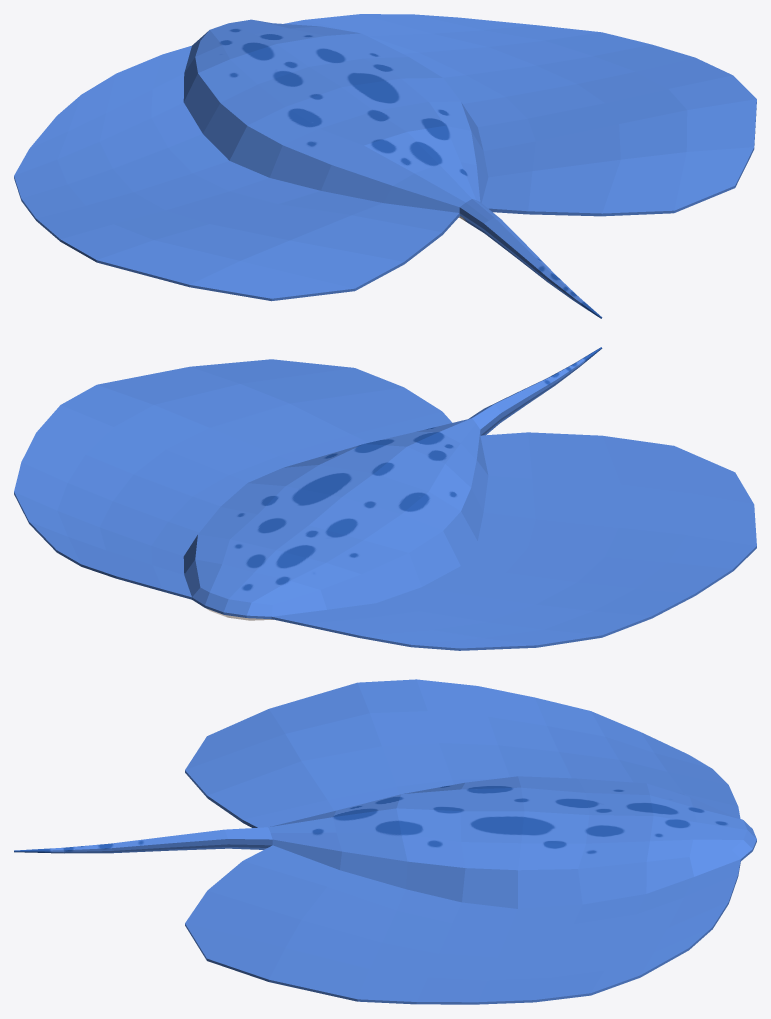
The model's file is mantaray.fbx.
3 views of the same model, one above another, from view 1: azimuth 30°, elevation 25°; view 2: azimuth 150°, elevation 25°; view 3: azimuth 270°, elevation 25° (orthographic).
Visible parts, largest first — view 1: mantaray; view 2: mantaray; view 3: mantaray.
Boxes of the visible parts, x1,y1,x2,y2 form: mantaray: (14,14,756,318); mantaray: (14,347,756,650); mantaray: (14,679,756,1004).
Size of the model in its own units: 416 by 47.53 by 405.
